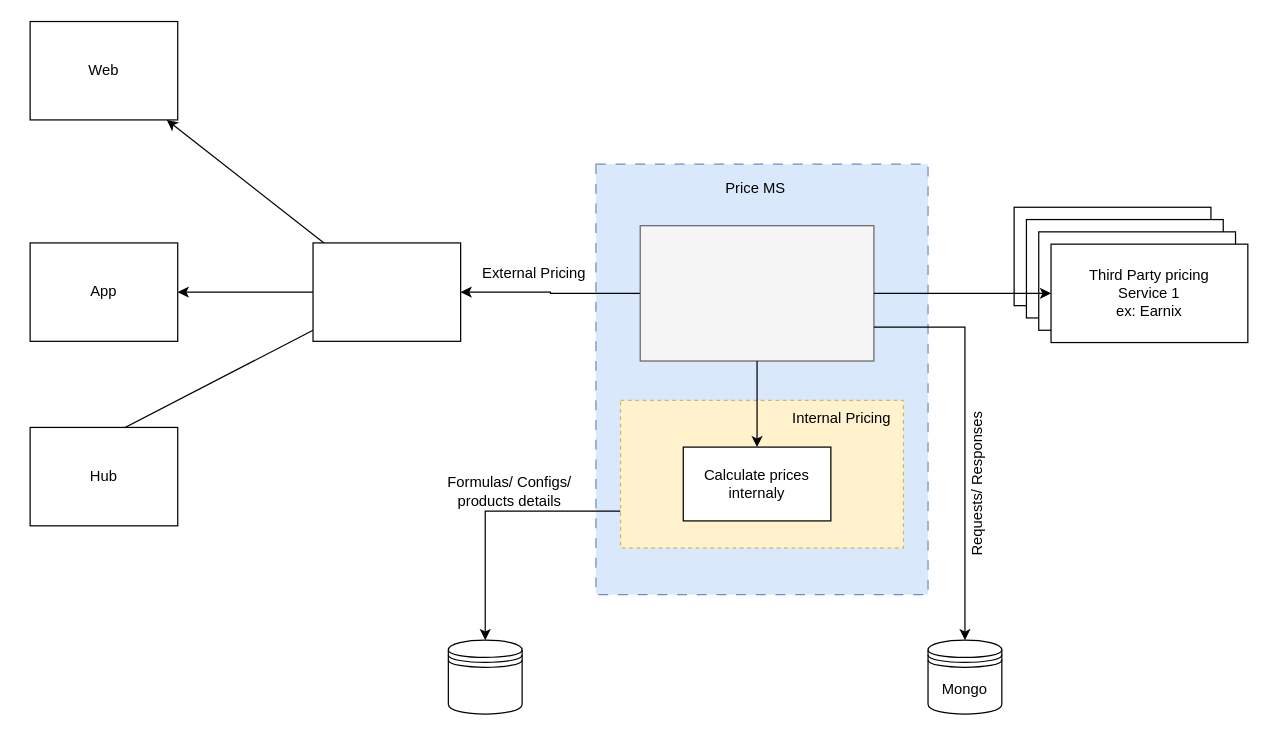
Some shapes in this 1269 by 736 pixel diagram are drawn without their labels. The shapes that lost their labels are listed below. From the top down, each one's box as (x1, y1, x2, y2) in pixels, then its label:
(312, 242, 461, 341): CORE
(639, 224, 874, 361): Process Pricing (internal/ external)
(447, 639, 522, 714): Oracle
